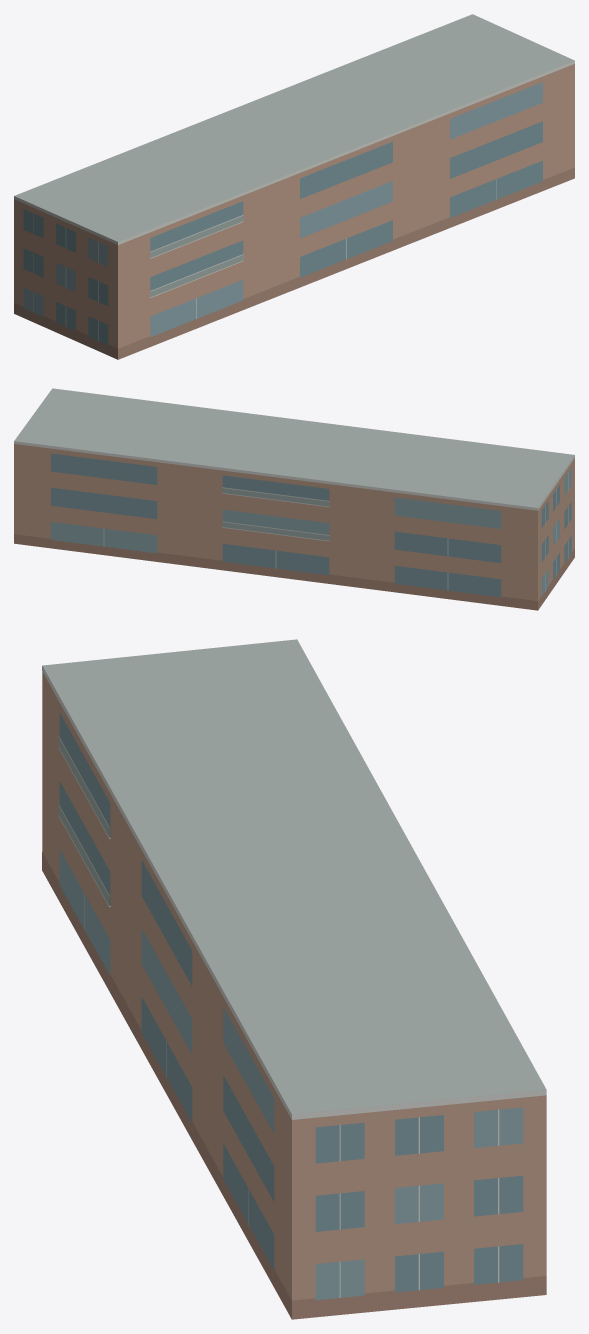
The model's file is survey-upis-32921078.glb.
3 renders of one model, top to bottom at view 1: azimuth 30°, elevation 25°; view 2: azimuth 150°, elevation 25°; view 3: azimuth 270°, elevation 25°, orthographic. The views are drawn at different scales.
Parts seen in each view (by area): view 1: survey-upis-32921078.tmp; view 2: survey-upis-32921078.tmp; view 3: survey-upis-32921078.tmp.
Boxes of the visible parts, x1,y1,x2,y2 form: survey-upis-32921078.tmp: [14, 14, 574, 359]; survey-upis-32921078.tmp: [14, 388, 574, 610]; survey-upis-32921078.tmp: [42, 639, 546, 1319].
Size of the model in its own units: 45.48 by 9.15 by 20.41.
